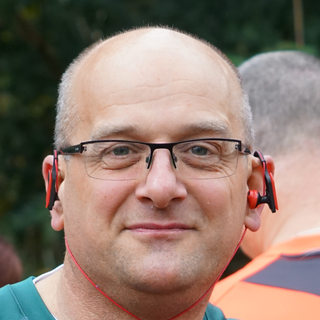eye: (176, 138, 224, 164), (98, 141, 147, 163)
